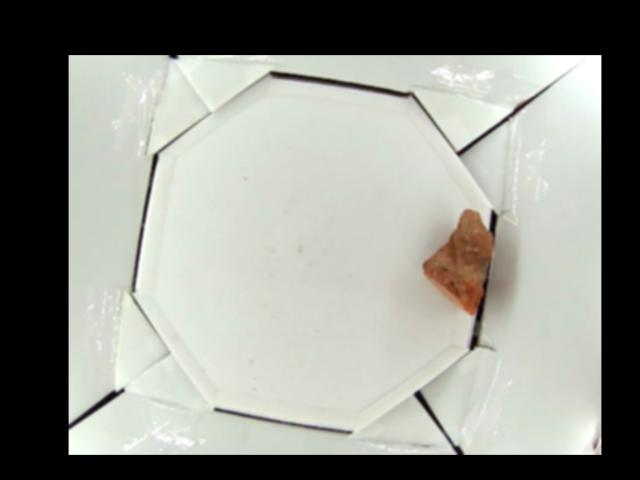Brisk: (424, 208, 494, 314)
